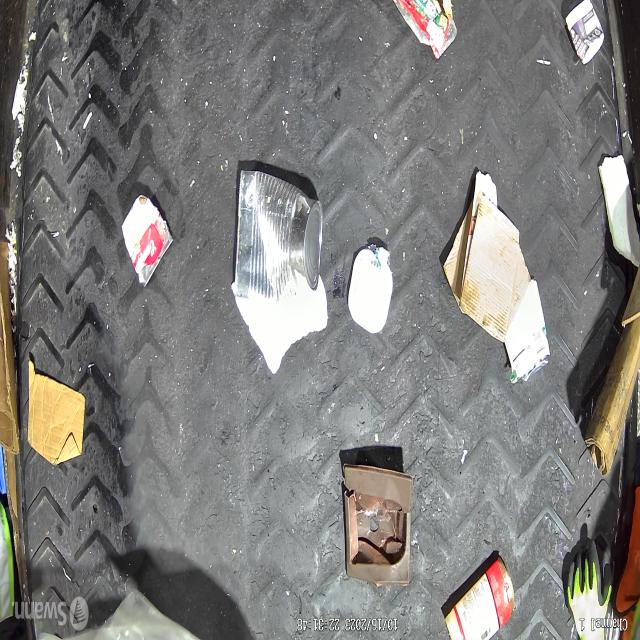can: (235, 169, 323, 301), (504, 280, 550, 388), (121, 194, 173, 287)
